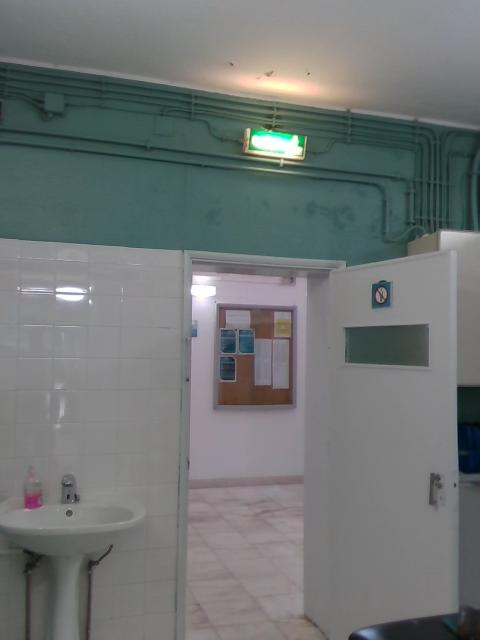open_door: (174, 247, 347, 638)
